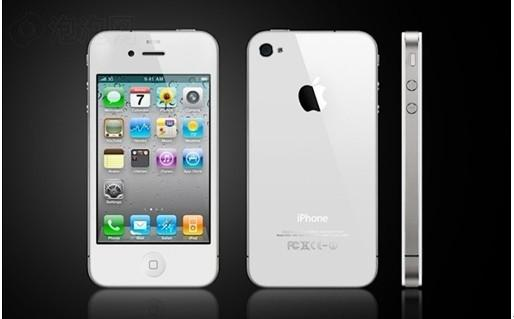phone: (242, 29, 379, 289), (84, 29, 219, 289), (397, 31, 426, 287)
